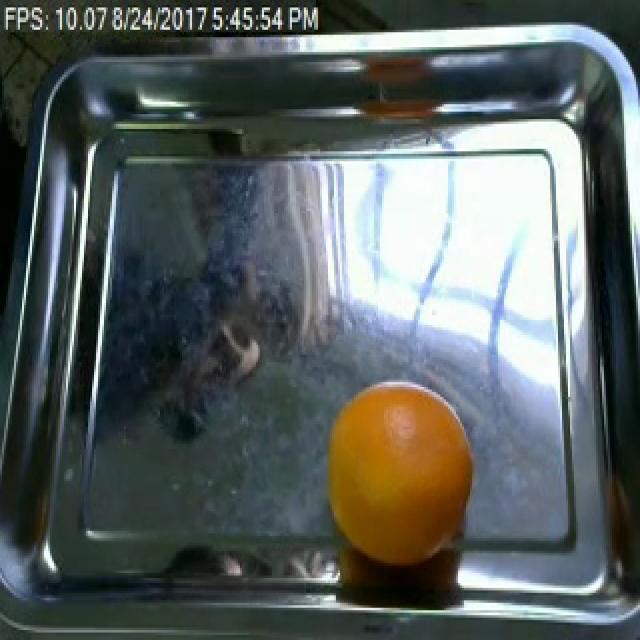Fruit: (328, 377, 480, 573)
